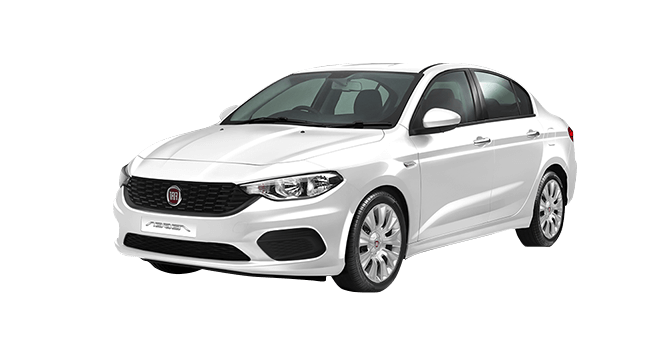car: (110, 60, 587, 295)
